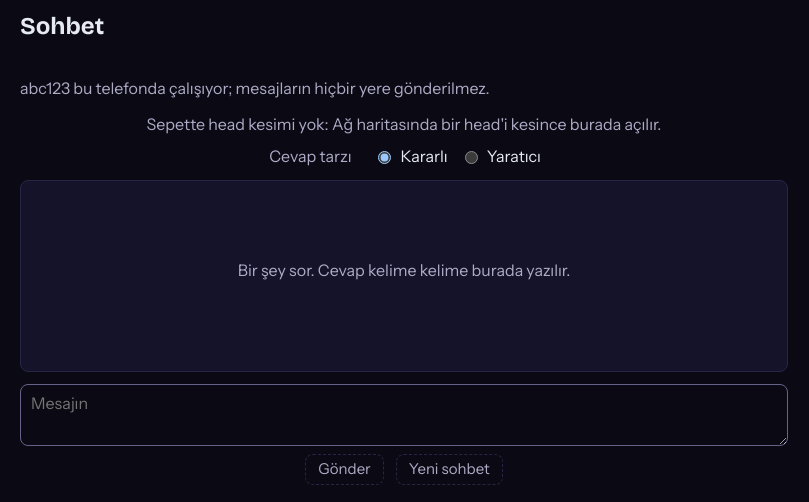
Test: stopping keeps what was written so far and marks it
Type "uzun" into the text box labelled "Mesajın" at (404, 415), box [20,384,788,446]
Then press Enter
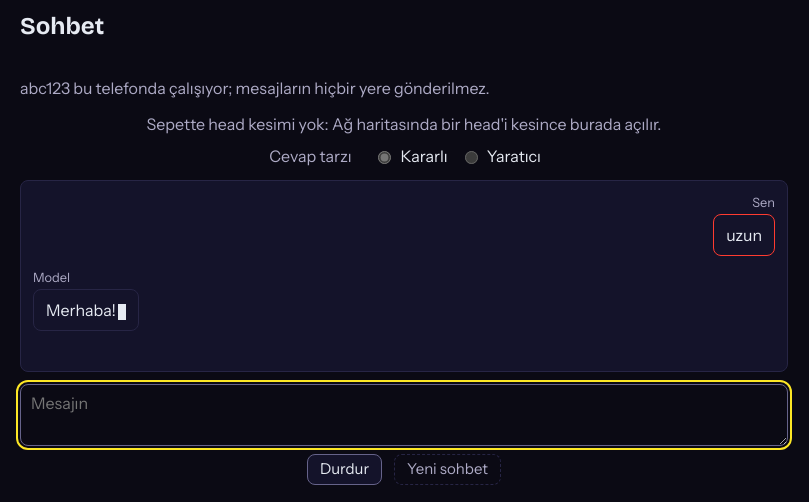
Click the button "Durdur" at (344, 469), box [307,454,382,485]
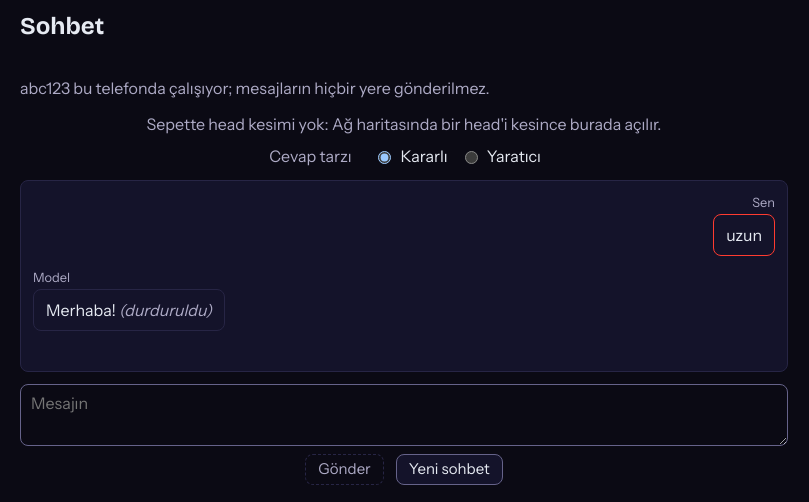
Check: the text "Merhaba! (durduruldu)" is shown, box [33,289,225,331]
Check: the text "(durduruldu)" is shown, box [116,300,212,320]
Check: the button "Gönder" is shown, box [305,454,384,485]
